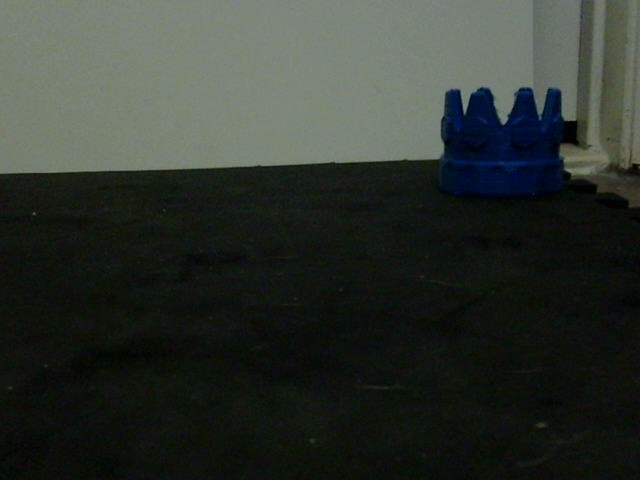crown: (437, 82, 567, 199)
